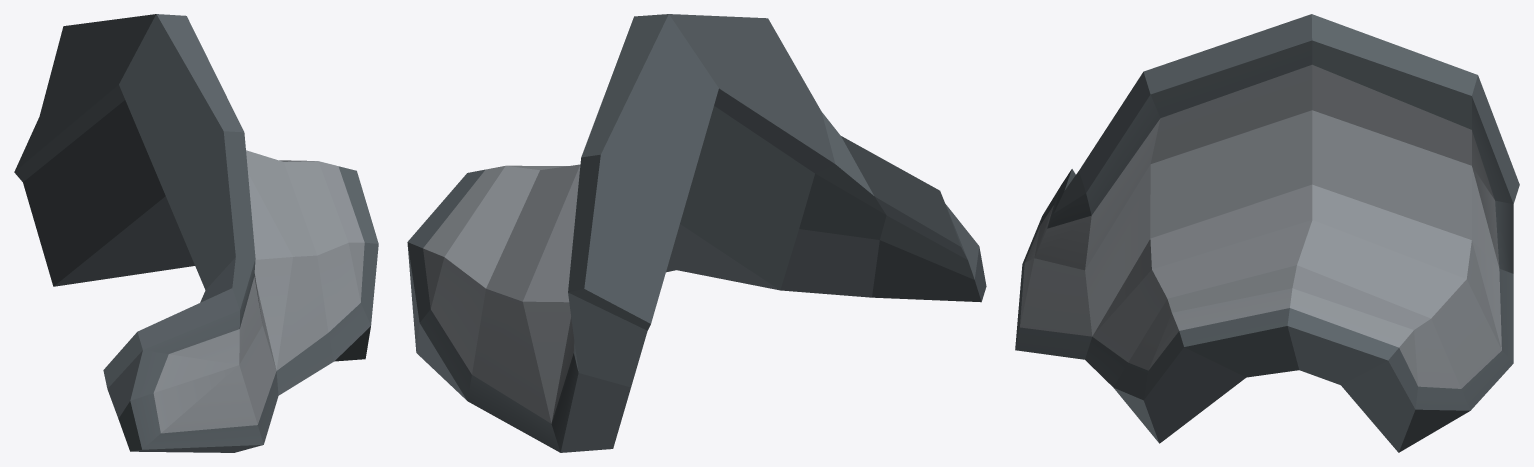
Rendered from Chr_ShoulderAttachLeft_07_Static.fbx.
The picture shows the model from 3 angles, left to right: view 1: azimuth 30°, elevation 25°; view 2: azimuth 150°, elevation 25°; view 3: azimuth 270°, elevation 25°; orthographic projection. The views are drawn at different scales.
Visible parts, largest first — view 1: Chr_ShoulderAttachLeft_07_Static; view 2: Chr_ShoulderAttachLeft_07_Static; view 3: Chr_ShoulderAttachLeft_07_Static.
Part boxes in pixels (<box>): Chr_ShoulderAttachLeft_07_Static: <box>14,14,378,452</box>; Chr_ShoulderAttachLeft_07_Static: <box>407,14,986,452</box>; Chr_ShoulderAttachLeft_07_Static: <box>1015,14,1519,452</box>.
Size of the model in its own units: 0.3728 by 0.336 by 0.4257.
